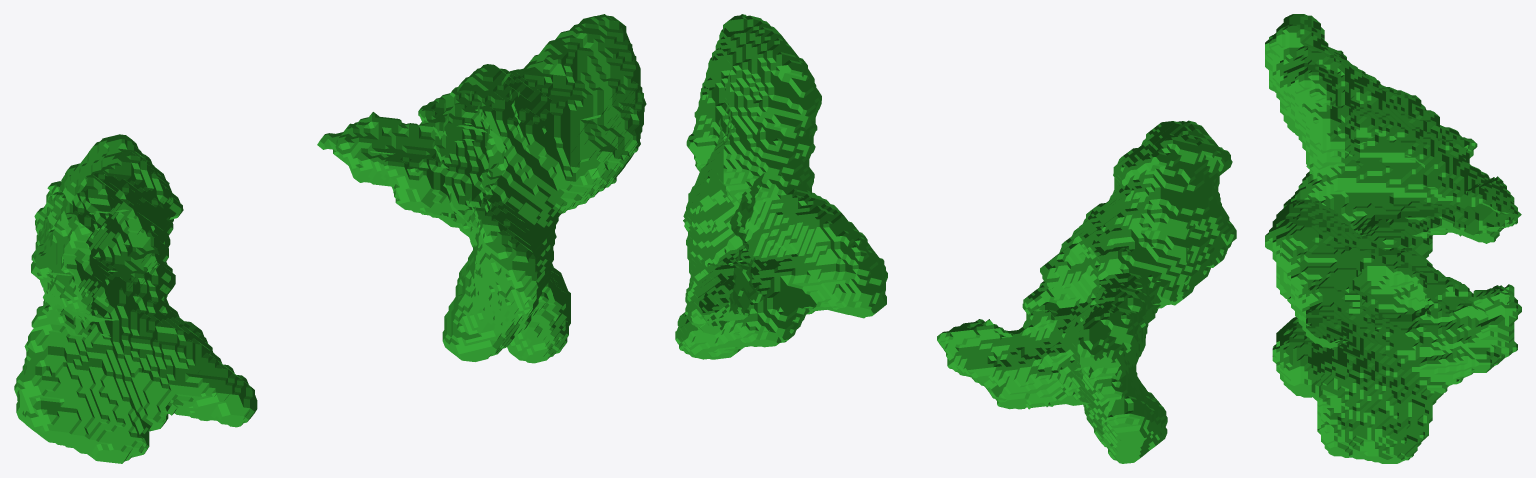
File: region_0193_VIII__octaval_nerve_.glb
3 views of the same model, side by side, from view 1: azimuth 30°, elevation 25°; view 2: azimuth 150°, elevation 25°; view 3: azimuth 270°, elevation 25° (orthographic). The views are drawn at different scales.
Visible parts, largest first — view 1: world; view 2: world; view 3: world.
Boxes of the visible parts, box(x1,y1,x2,y2) form: world: box(14, 14, 646, 463); world: box(675, 14, 1236, 463); world: box(1265, 14, 1521, 463).
Size of the model in its own units: 1.18 by 0.632 by 0.552.
